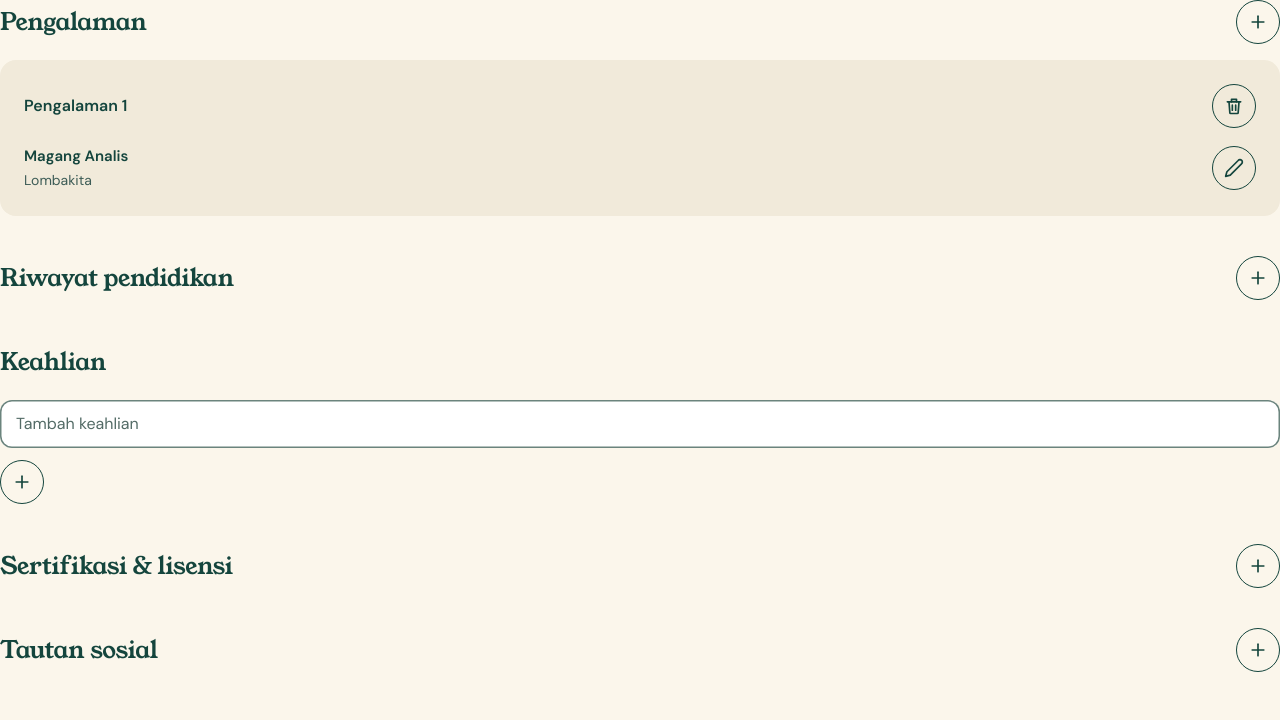
Test: deleting a saved profile entry › keeps the entry and shows the failure inside the pop-up when the request cannot be sent
Click the button named "Hapus pengalaman Magang Analis".
click(1234, 106)  # box [1212,84,1256,128]
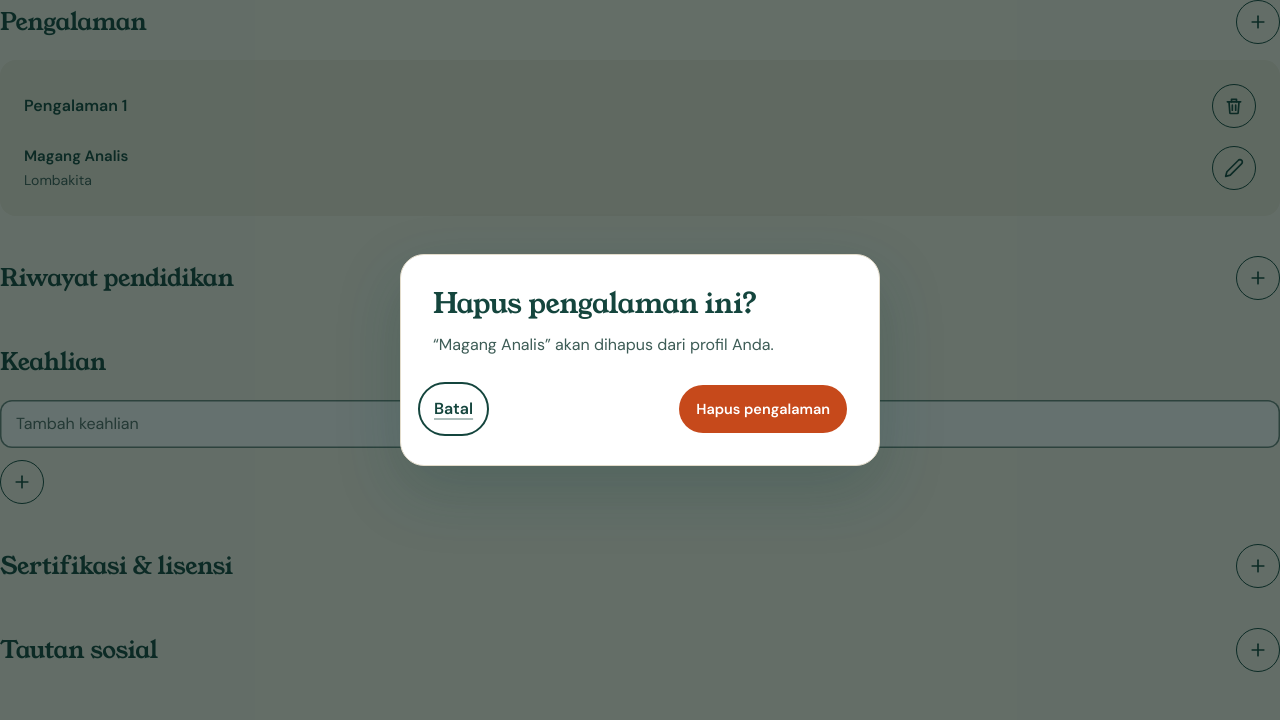
Click the button "Hapus pengalaman".
click(763, 409)  # box [679,385,847,433]
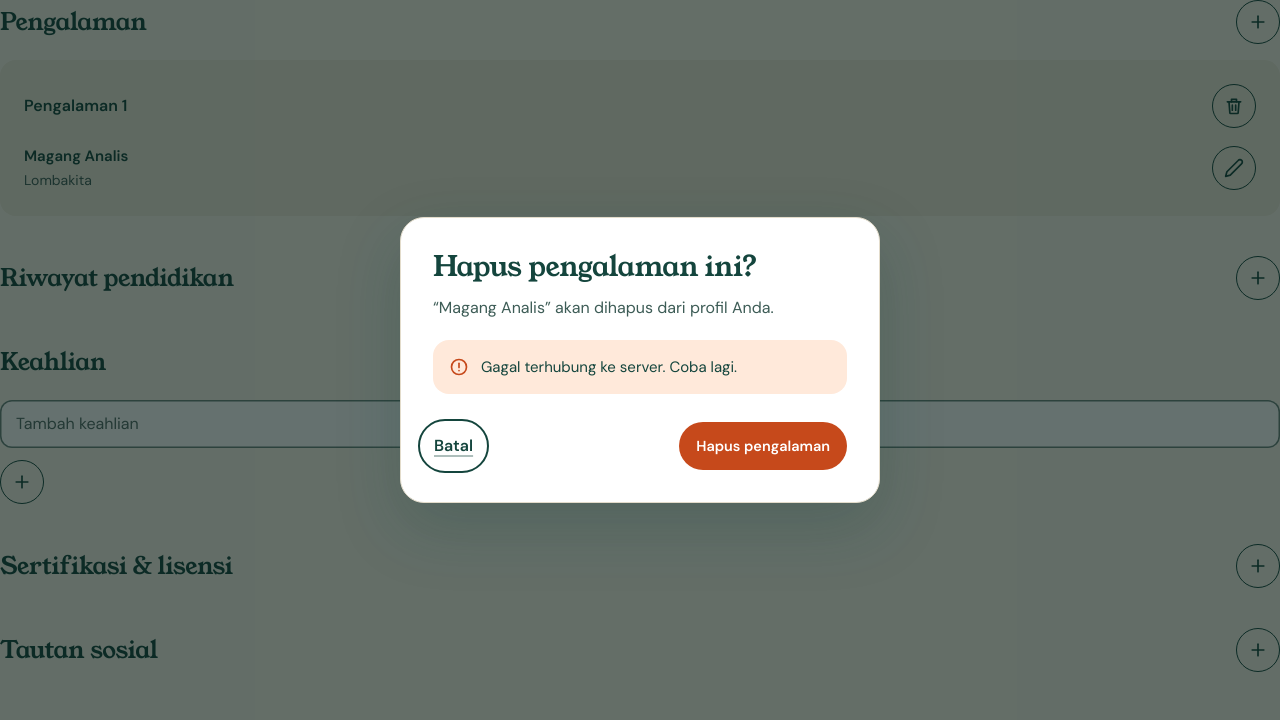
Expected: the button named "Hapus pengalaman Magang Analis" is shown, [1212,84,1256,128]
Expected: the message reads "Gagal terhubung ke server. Coba lagi.", [481,357,737,377]
